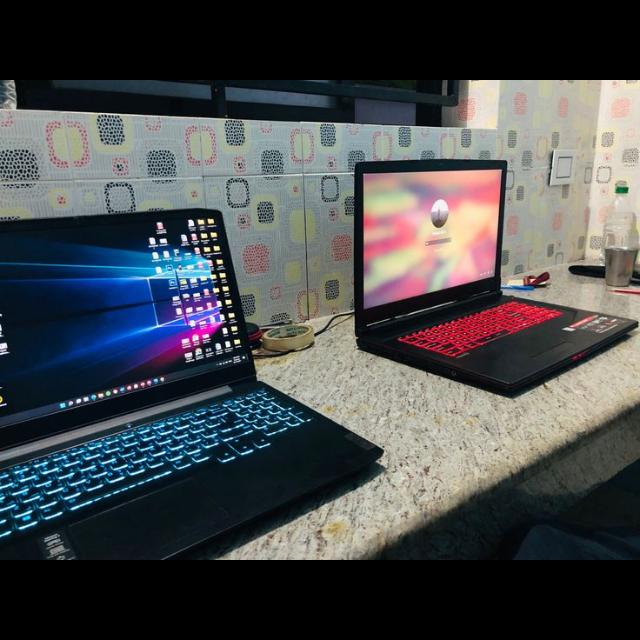laptop: (0, 208, 383, 559), (355, 159, 637, 391)
